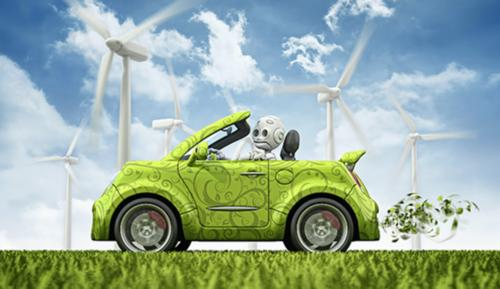MNV: (92, 111, 380, 251)
